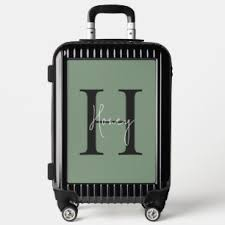suitcase: (45, 5, 174, 222)
